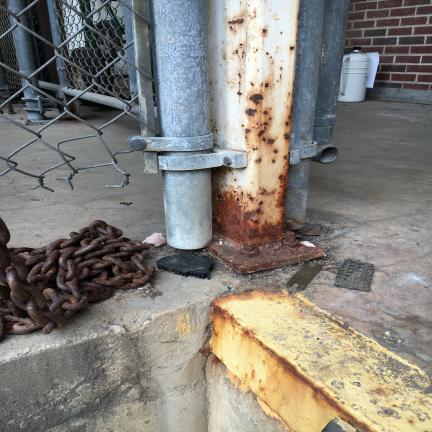karat: (0, 216, 155, 336), (209, 158, 321, 274)
